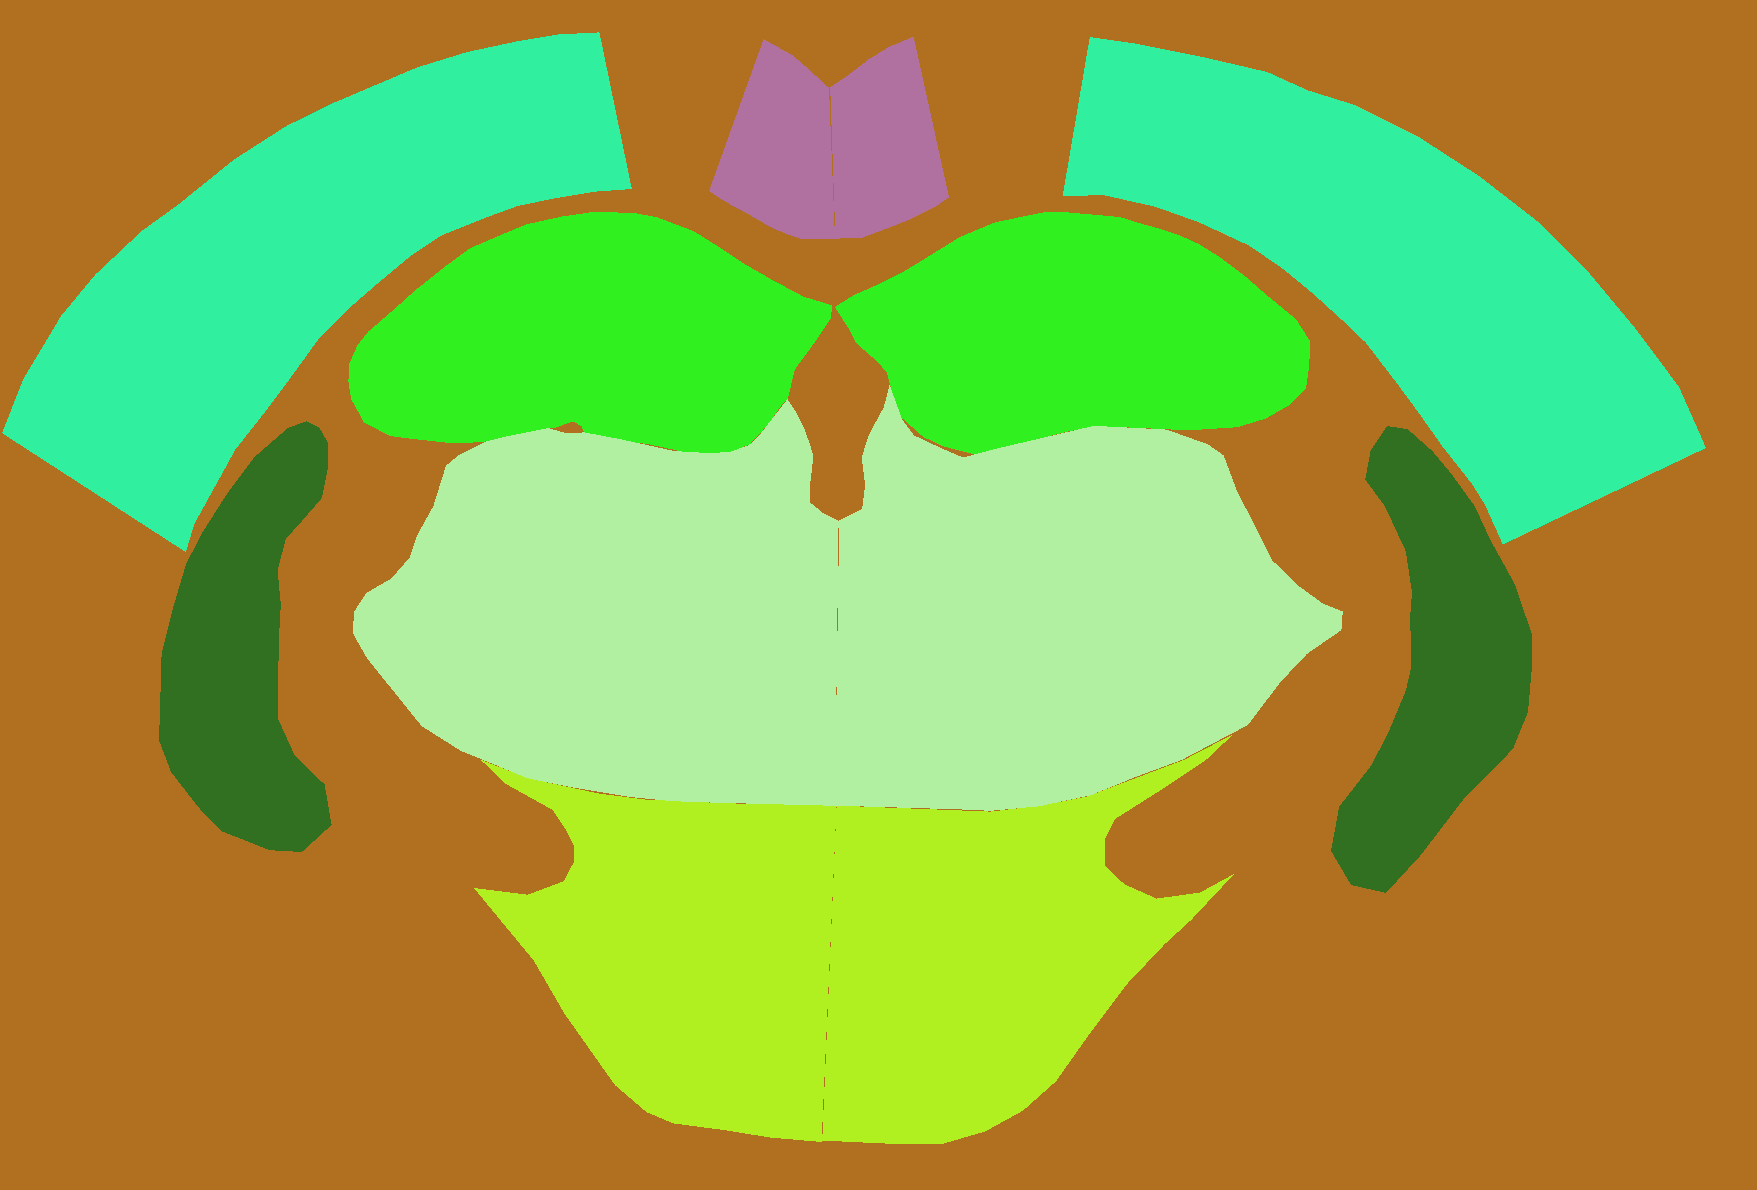Cerebral nuclei: (1331, 426, 1533, 892), (159, 421, 332, 853)
Hippocampal formation: (348, 212, 831, 456), (835, 212, 1311, 456)
Hypothalamus: (822, 734, 1234, 1144), (474, 760, 837, 1142)
Retrosplenial area: (709, 39, 835, 239), (830, 37, 950, 239)
Somatosensory area: (3, 32, 632, 552), (1062, 37, 1707, 545)
Thalamus: (835, 385, 1343, 811), (353, 398, 839, 806)
